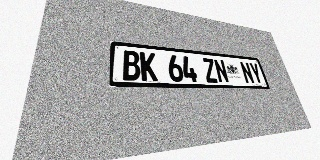4: (180, 56, 198, 82)
6: (167, 54, 184, 82)
B: (122, 50, 141, 81)
K: (140, 52, 158, 81)
N: (213, 59, 230, 83), (239, 61, 255, 84)
Y: (248, 62, 264, 84)
Z: (201, 58, 218, 83)
